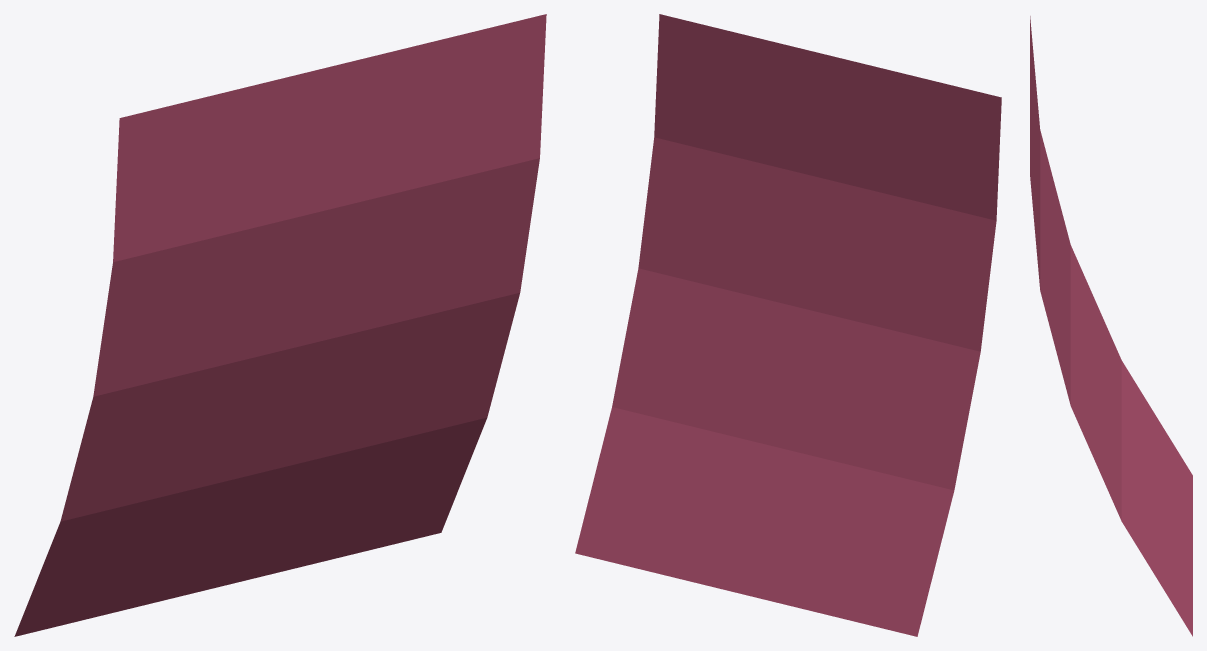
File: cape_grid.glb
3 views of the same model, side by side, from view 1: azimuth 30°, elevation 25°; view 2: azimuth 150°, elevation 25°; view 3: azimuth 270°, elevation 25° (orthographic). The views are drawn at different scales.
Parts seen in each view (by area): view 1: CapeGrid; view 2: CapeGrid; view 3: CapeGrid.
Boxes of the visible parts, x1,y1,x2,y2 form: CapeGrid: (14, 14, 546, 636); CapeGrid: (575, 14, 1001, 636); CapeGrid: (1030, 16, 1192, 636).
Bounding box in the file's own units: 1.5 × 2 × 0.64.
